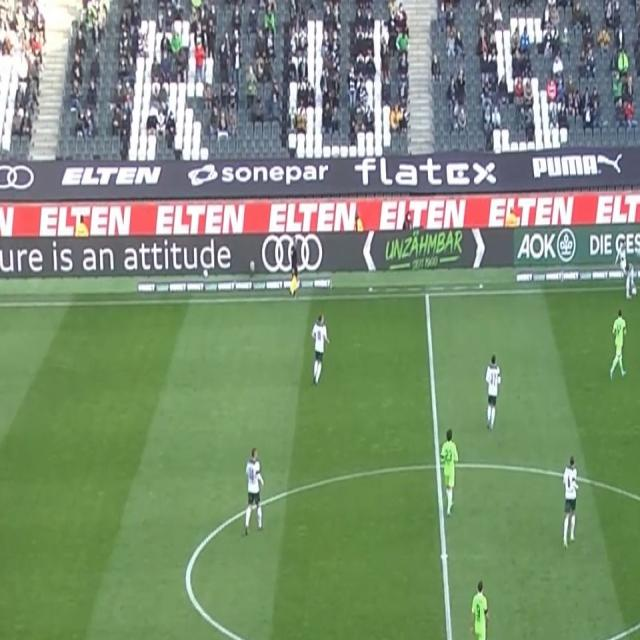ball: (631, 284, 637, 296)
